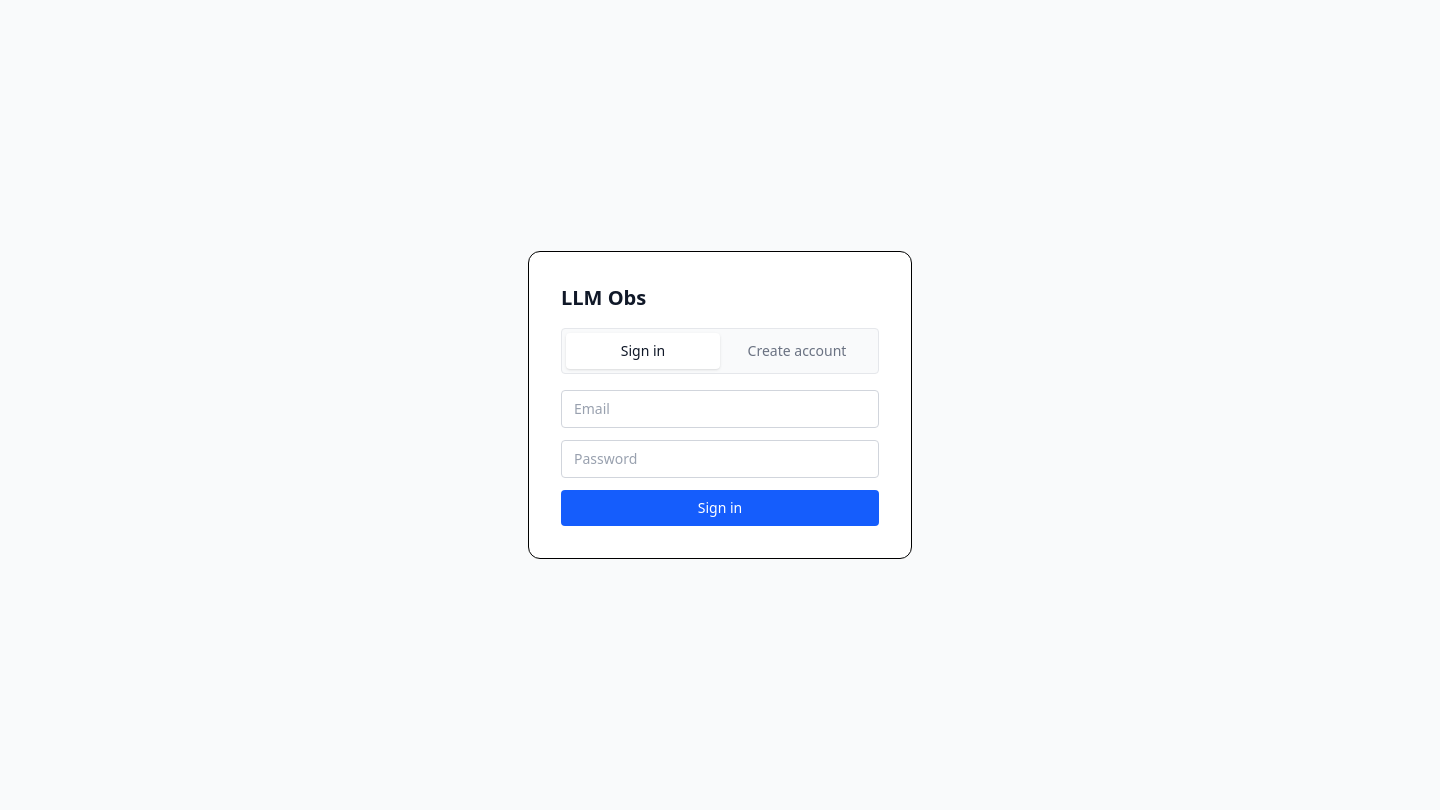
Test: App › logs in and stores session values
Type "member@example.com" into the field with placeholder "Email".
click(720, 409); type("member@example.com")  # box 561,390 -> 879,428
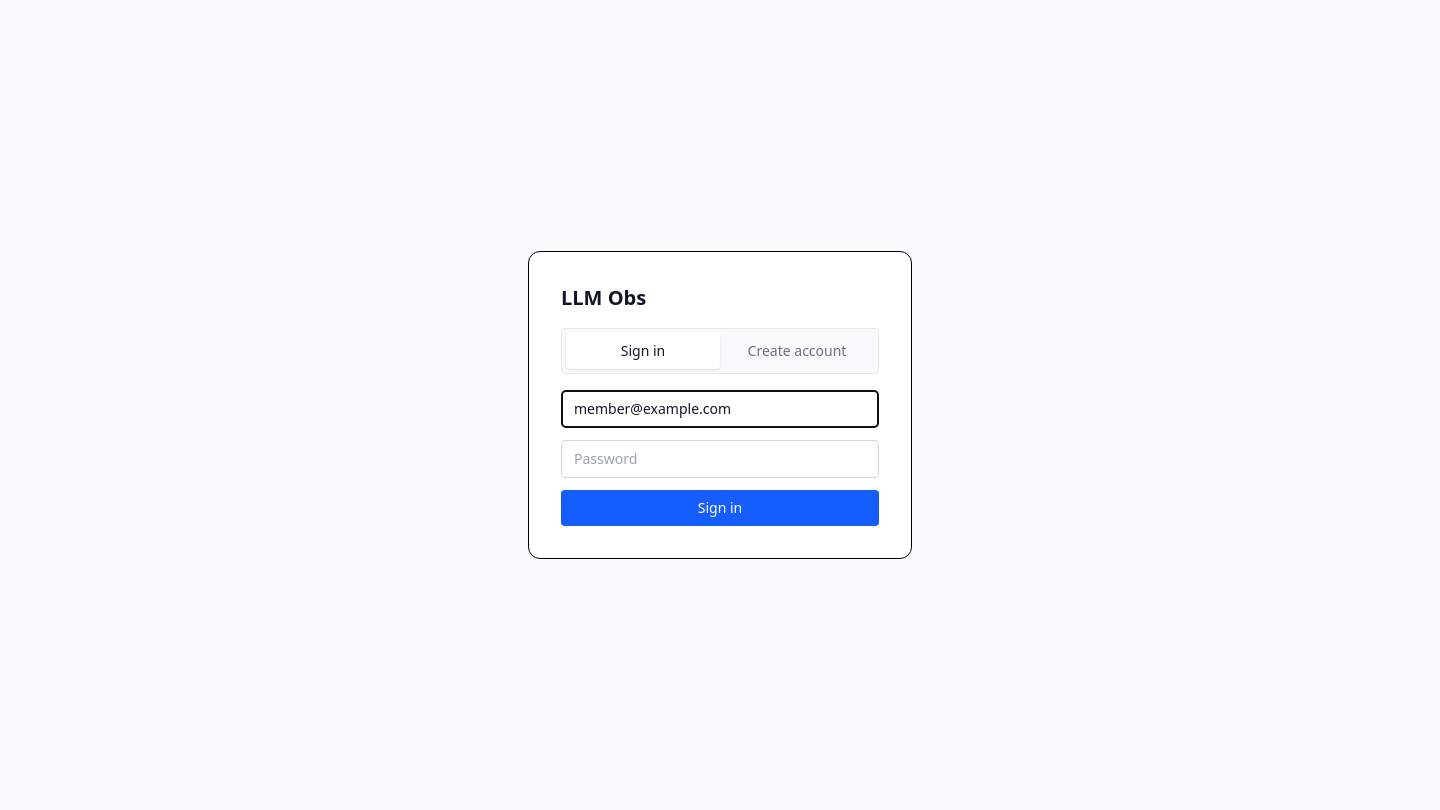
Type "secret123" into the password field with placeholder "Password".
click(720, 459); type("secret123")  # box 561,440 -> 879,478
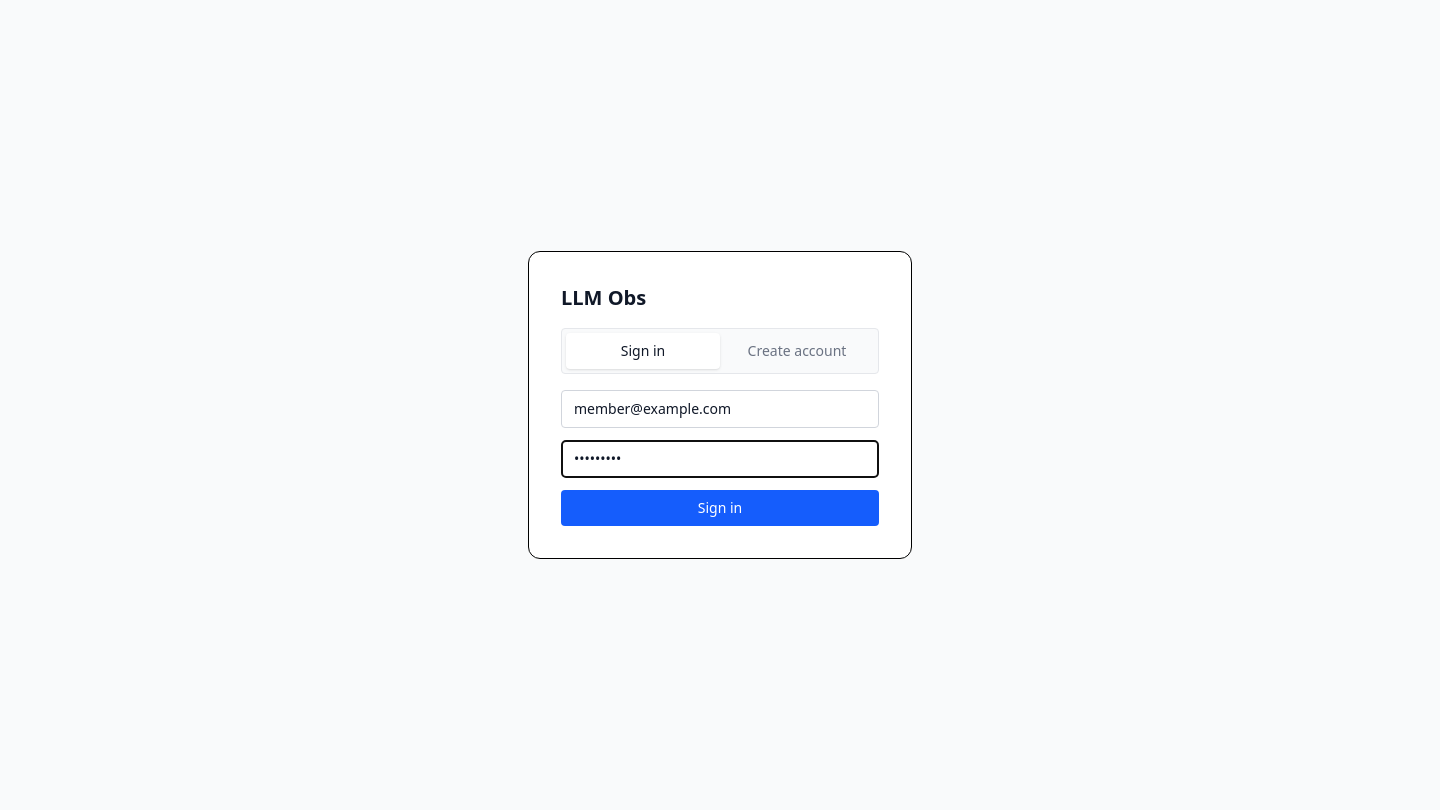
Click the 2nd button "Sign in".
click(720, 508)  # box 561,490 -> 879,526
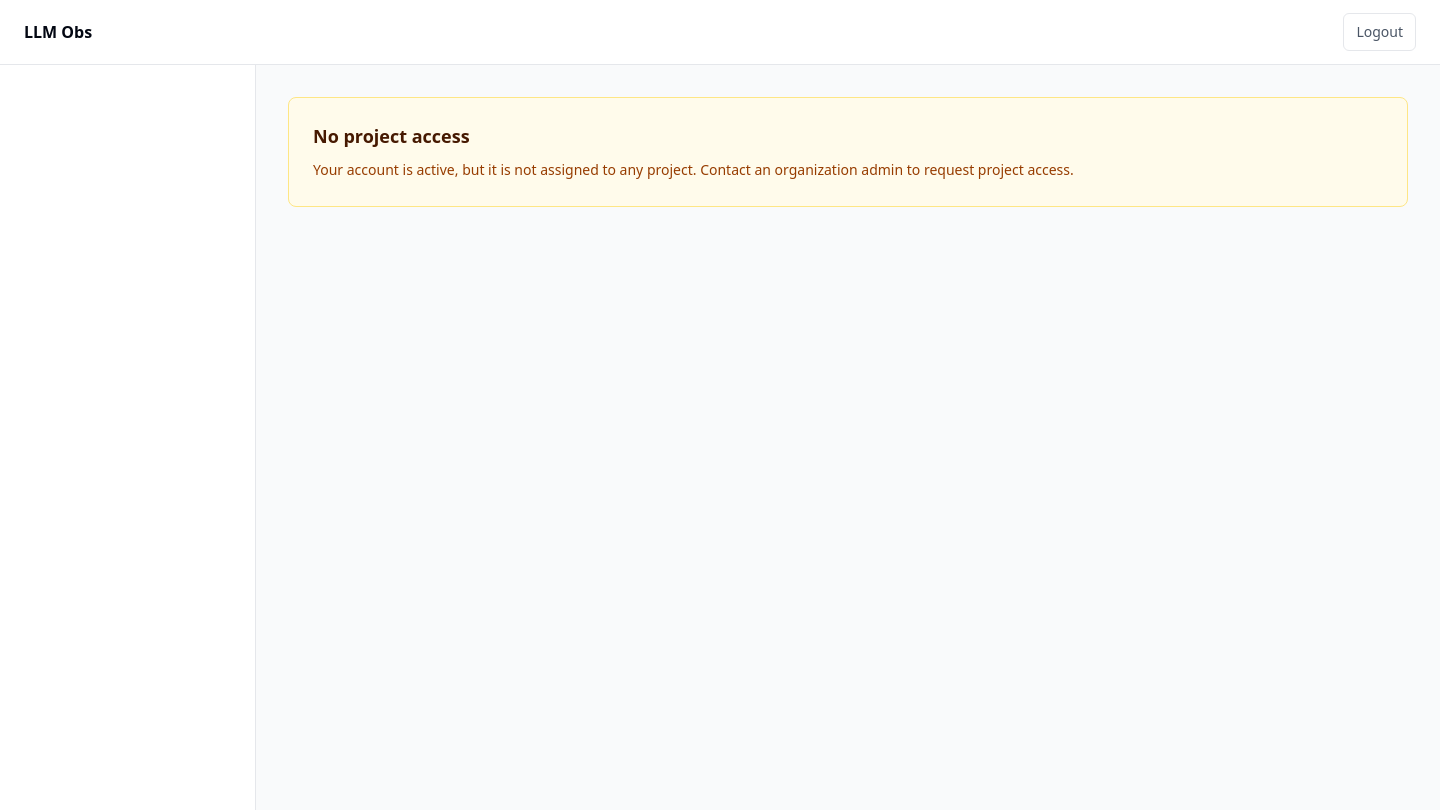
Check: the number of headings "No project access" is 1, box 313,124 -> 470,148
